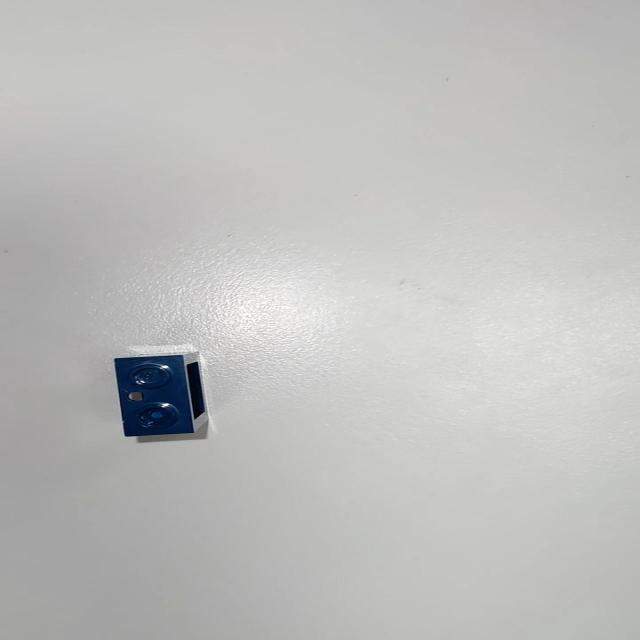W2x1x2: (105, 342, 213, 439)
